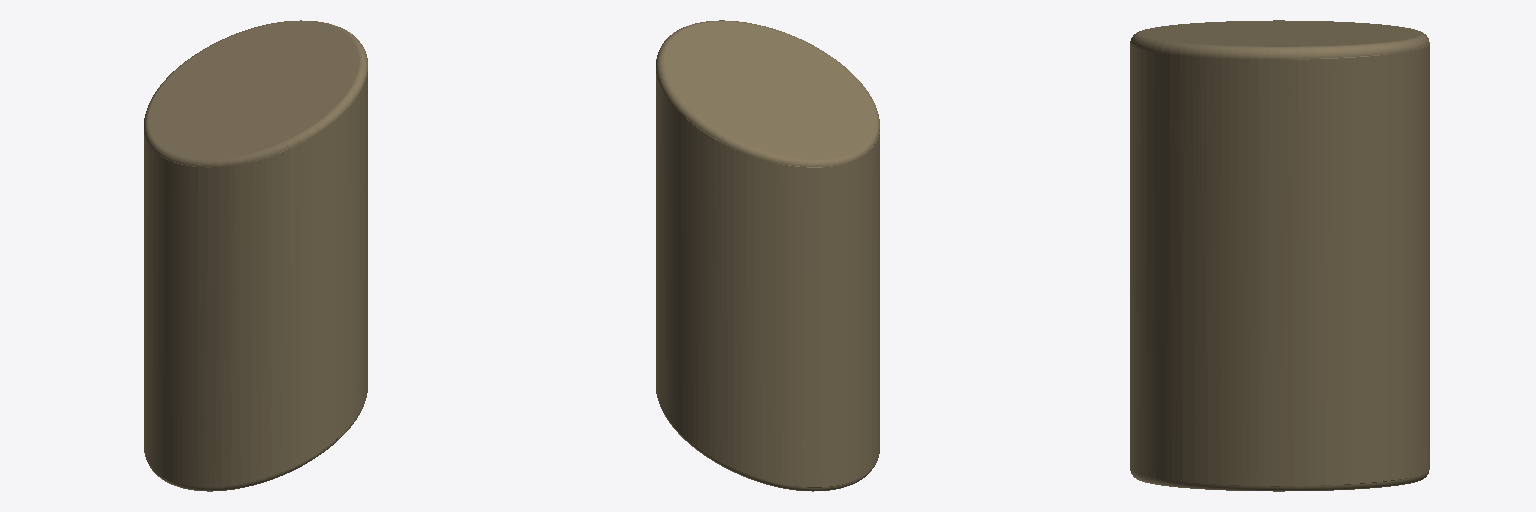
URDF robot description (cylinder_parallogram):
<?xml version="1.0"?>
<robot name="cylinder_parallogram">
  <link name="base_link">
    <visual>
      <origin xyz="0 0 0" rpy="0 0 0" />
      <geometry>
        <mesh filename="cylinder_parallogram.obj" />      
      </geometry>
      <material name="tan">
        <color rgba="0.55 0.5 0.4 1" />
      </material>
    </visual>
    <collision>
      <origin xyz="0 0 0" rpy="0 0 0" />
      <geometry>
        <mesh filename="cylinder_parallogram.obj" />
      </geometry>
    </collision>
  </link>
</robot>

--- Facts derived from the render (not from the file) ---
3 views of the same robot in one strip: view 1: azimuth 30°, elevation 25°; view 2: azimuth 150°, elevation 25°; view 3: azimuth 270°, elevation 25° (orthographic).
Model cylinder_parallogram with 1 links and 0 joints (none), rooted at base_link, posed every joint at zero.
Visible links, largest first — view 1: base_link; view 2: base_link; view 3: base_link.
Link boxes in pixels (bbox=[...]): base_link: bbox=[144, 20, 367, 491]; base_link: bbox=[656, 20, 879, 491]; base_link: bbox=[1130, 20, 1429, 491].
Bounding box of the posed robot: 25.4 × 25.4 × 50.12 m (x, y, z).
1 mesh visuals loaded from 1 distinct referenced files (1 OBJ).
